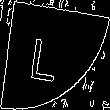L_N: (38, 27, 72, 83)
